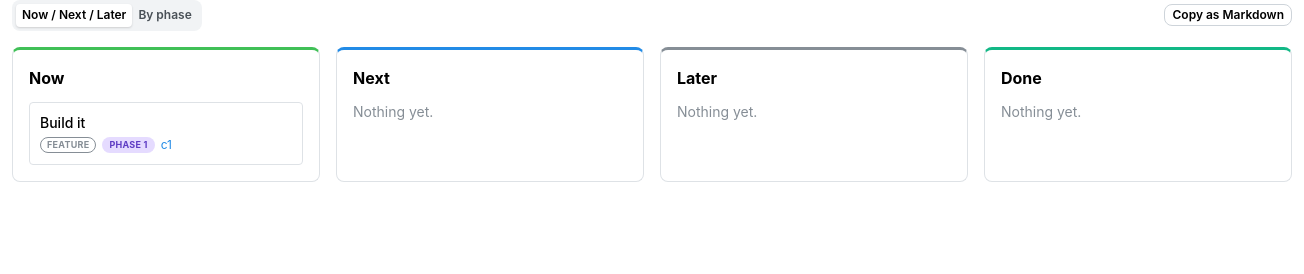
it: RoadmapView › groups by phase on the timeline switch
The image size is (1304, 274).
expect the text "Build it" is shown: met, box [40, 114, 85, 131]
Click the text "By phase" at (165, 14), box [138, 7, 192, 22]
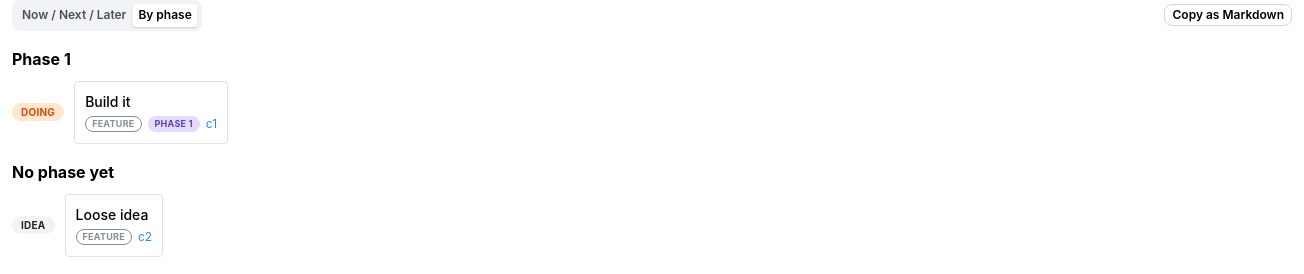
expect the heading "No phase yet" is shown: met, box [12, 162, 114, 182]
expect the text "Loose idea" is shown: met, box [76, 205, 152, 225]
